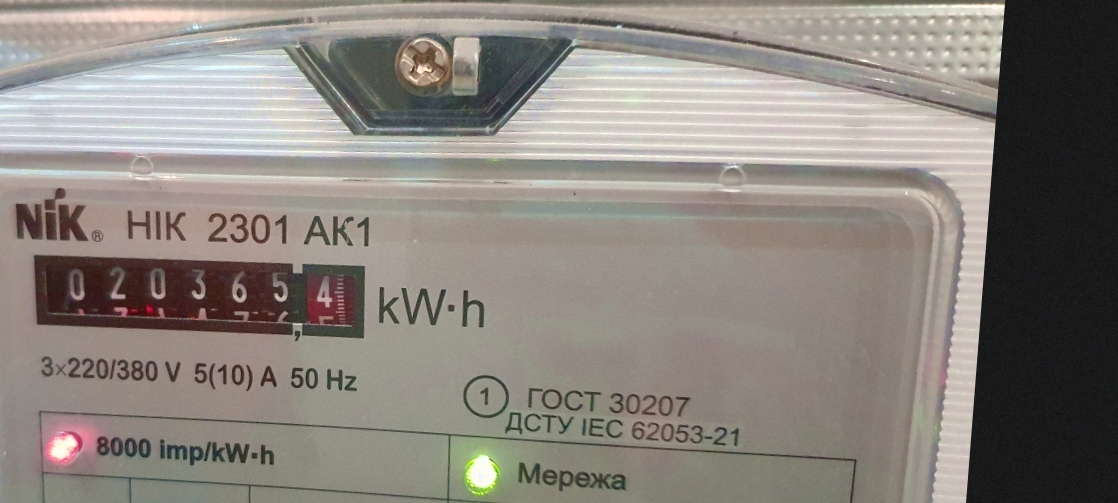0: (147, 264, 169, 301), (65, 266, 88, 301)
2: (105, 264, 129, 301)
3: (188, 264, 209, 301)
4: (314, 272, 335, 308)
5: (269, 269, 291, 303)
6: (228, 267, 250, 304)
screen: (12, 229, 388, 359)
